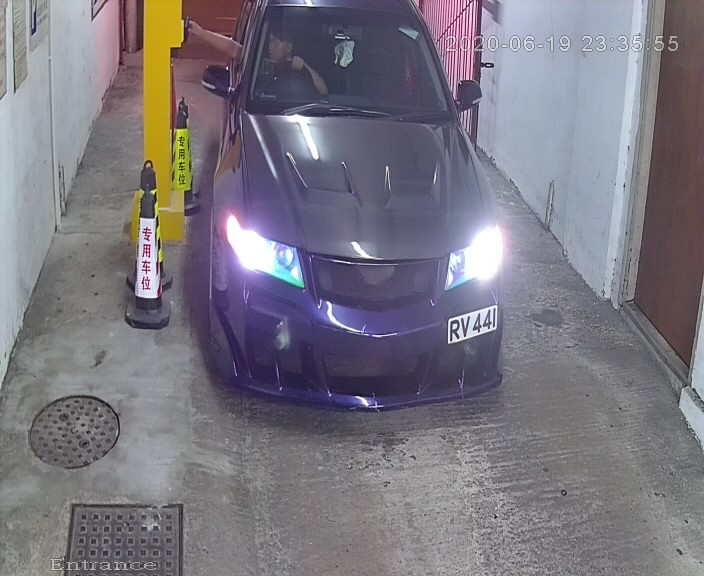privatecar: (142, 3, 536, 426)
